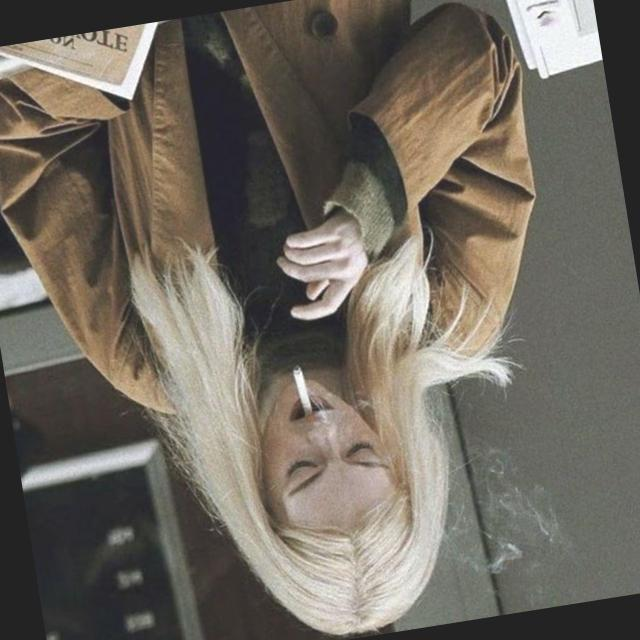cigarette: (286, 349, 339, 426)
